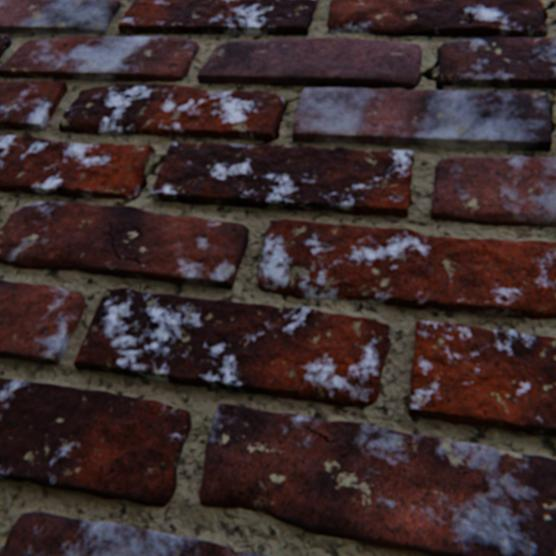brick: (199, 402, 555, 555), (198, 38, 550, 151), (75, 288, 390, 405), (258, 219, 555, 319), (0, 377, 191, 505), (0, 201, 248, 288), (327, 0, 555, 89), (150, 143, 412, 217), (407, 320, 555, 434), (60, 85, 284, 142), (0, 510, 274, 555), (0, 136, 154, 200), (0, 37, 198, 82), (430, 157, 555, 226), (0, 279, 86, 364), (119, 0, 317, 36), (0, 0, 121, 34), (0, 82, 67, 131), (0, 37, 12, 60)
crack: (118, 155, 166, 206), (110, 222, 152, 265), (418, 59, 443, 90), (300, 424, 338, 441), (455, 0, 478, 25), (521, 269, 550, 283), (542, 0, 555, 22), (283, 97, 300, 112), (547, 102, 554, 133), (274, 118, 282, 140), (256, 143, 267, 146), (541, 31, 545, 38), (151, 5, 163, 7)
